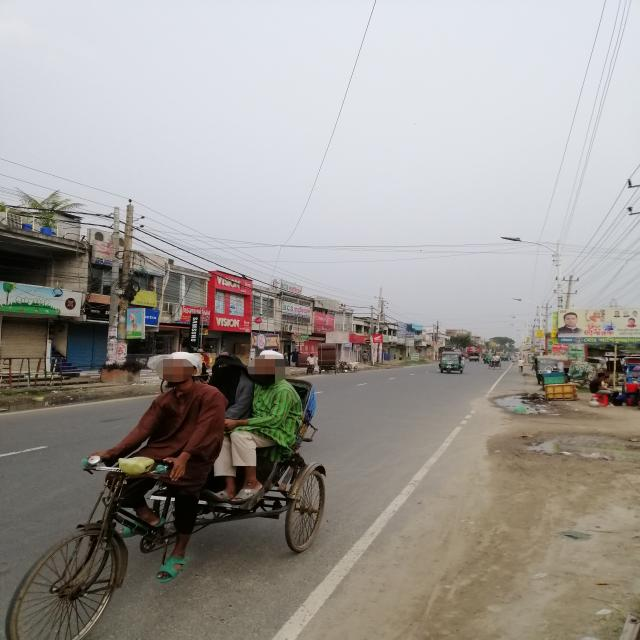Rickshaw: (7, 377, 347, 640)
